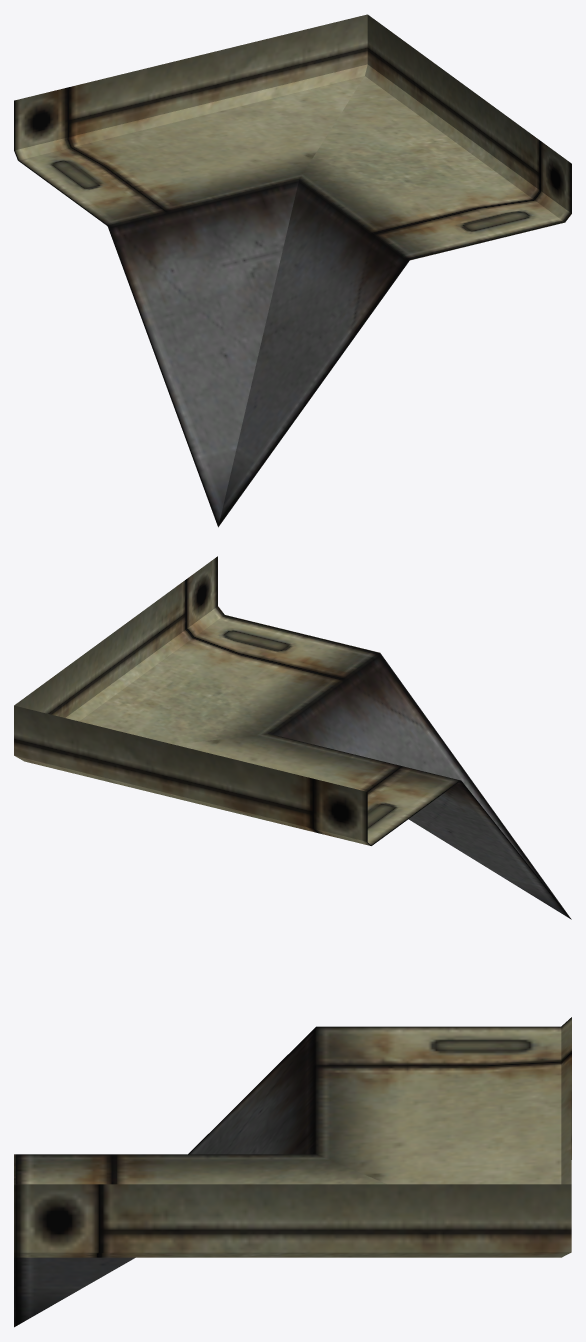
Rendered from living_area_roofedge_corner_convex.dae.
3 views of the same model, one above another, from view 1: azimuth 30°, elevation 25°; view 2: azimuth 150°, elevation 25°; view 3: azimuth 270°, elevation 25° (orthographic). The views are drawn at different scales.
Parts seen in each view (by area): view 1: polySurface17; view 2: polySurface17; view 3: polySurface17.
Part boxes in pixels (box(x1,y1,x2,y2)): polySurface17: box(14, 14, 571, 527); polySurface17: box(14, 556, 571, 919); polySurface17: box(14, 1017, 571, 1327).
Bounding box in the file's own units: 0.6671 × 0.5 × 0.6671.
